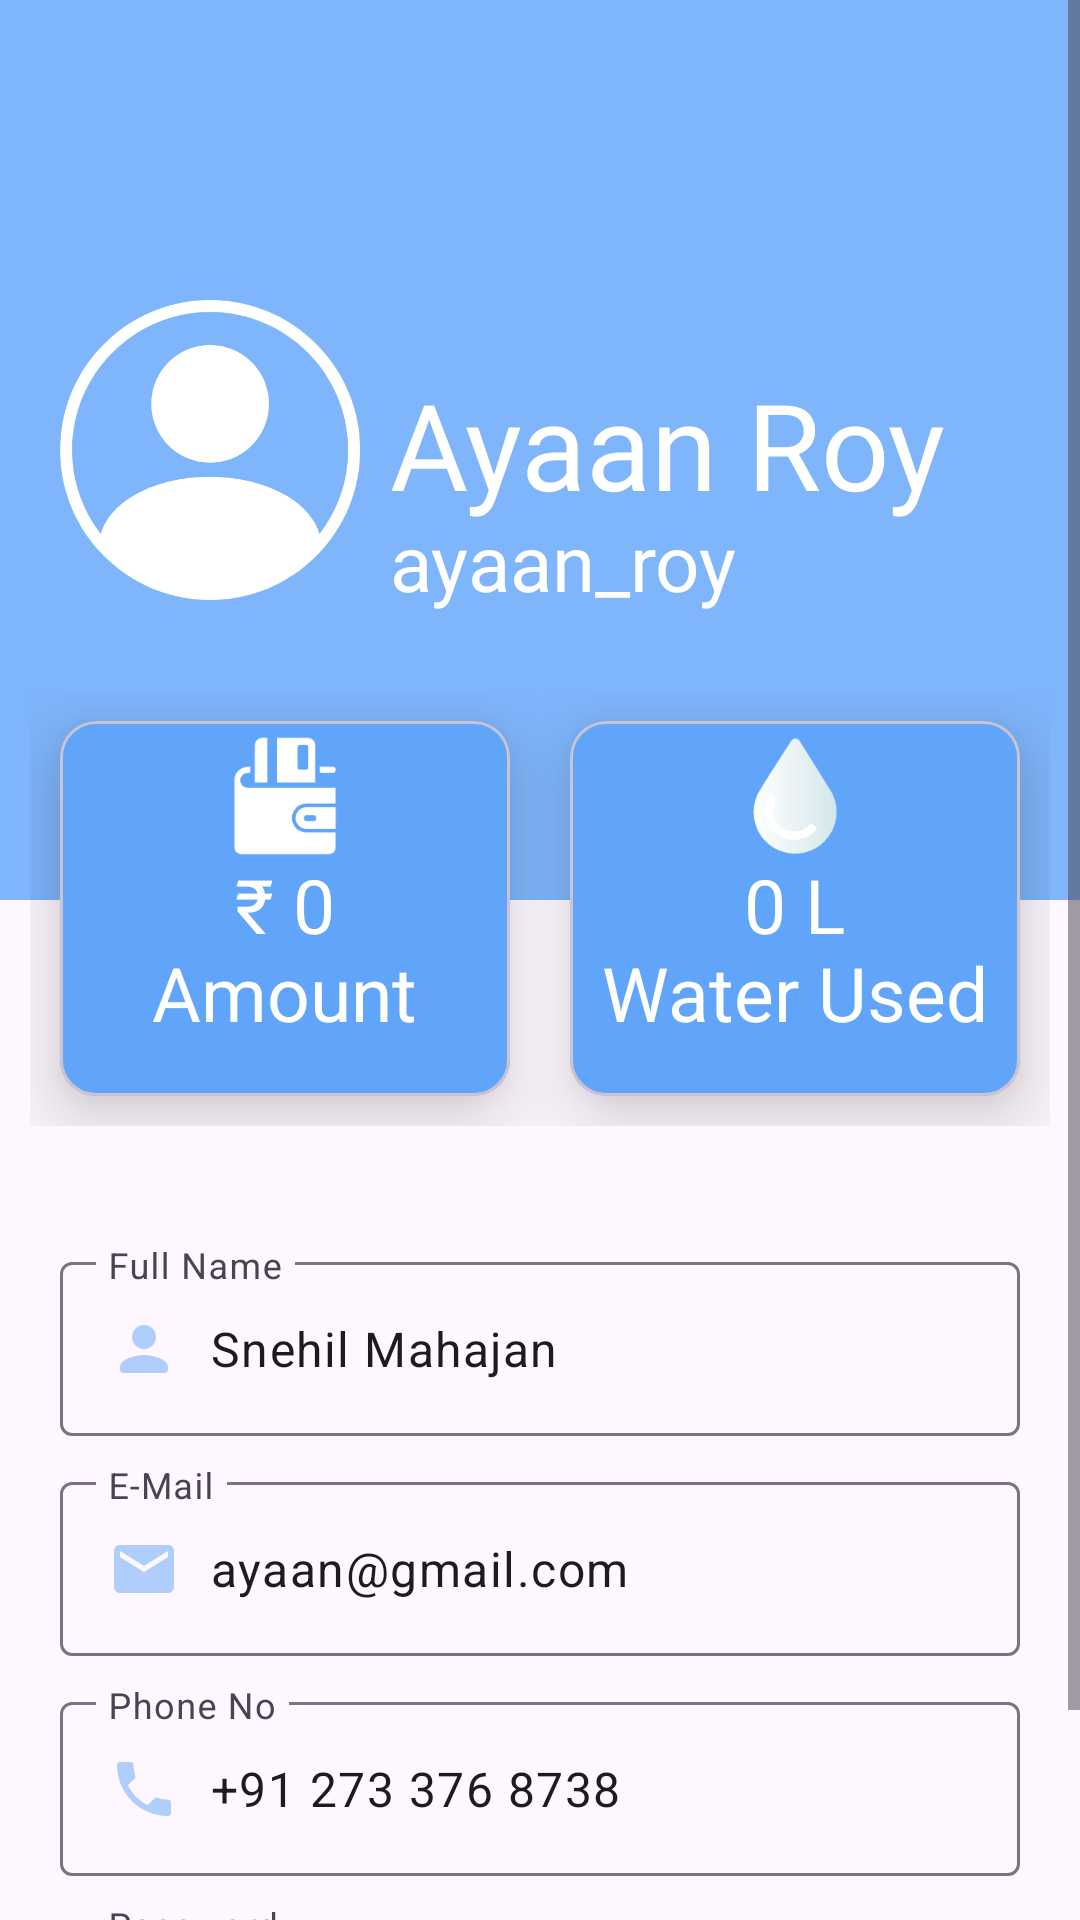

Screen size 1080*1920. Icon name, then its box in pixels as (x1, y1, x2, y2):
drop: (753, 738, 837, 854)
money: (234, 737, 336, 855)
usericon: (60, 300, 360, 600)
